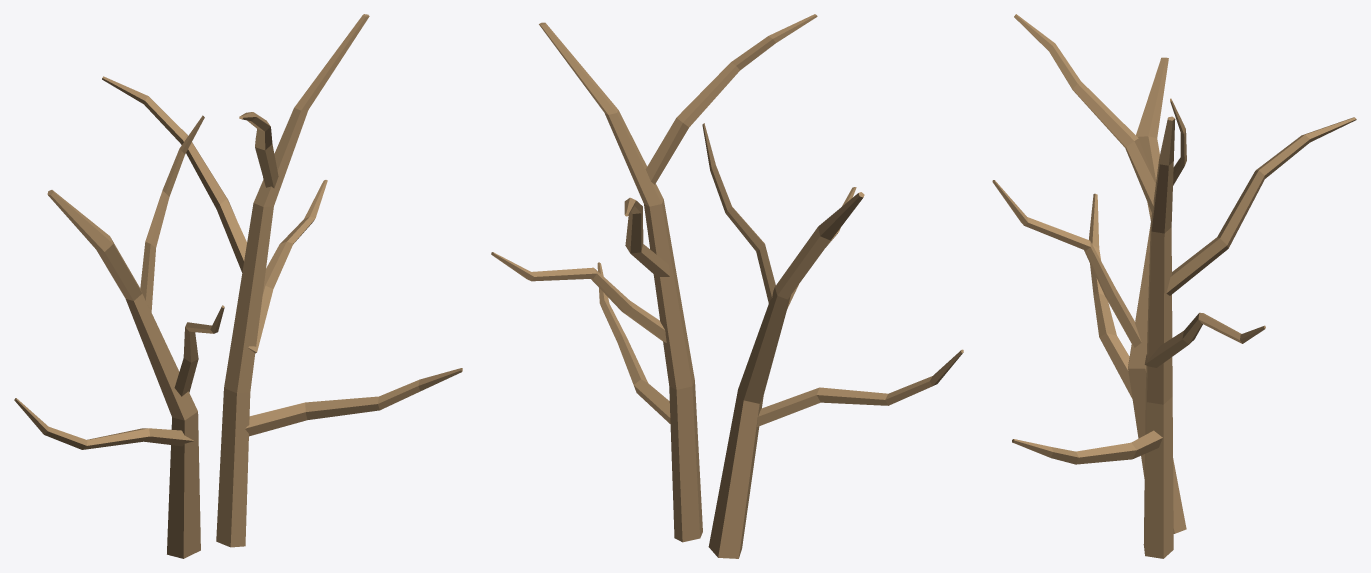
File: Bush1.fbx
3 renders of one model, left to right at view 1: azimuth 30°, elevation 25°; view 2: azimuth 150°, elevation 25°; view 3: azimuth 270°, elevation 25°, orthographic. The views are drawn at different scales.
Visible parts, largest first — view 1: Bush1; view 2: Bush1; view 3: Bush1.
Part boxes in pixels (box(x1,y1,x2,y2)): Bush1: box(14, 14, 462, 558); Bush1: box(491, 14, 963, 558); Bush1: box(992, 14, 1356, 558).
Size of the model in its own units: 123 by 143 by 92.37.
